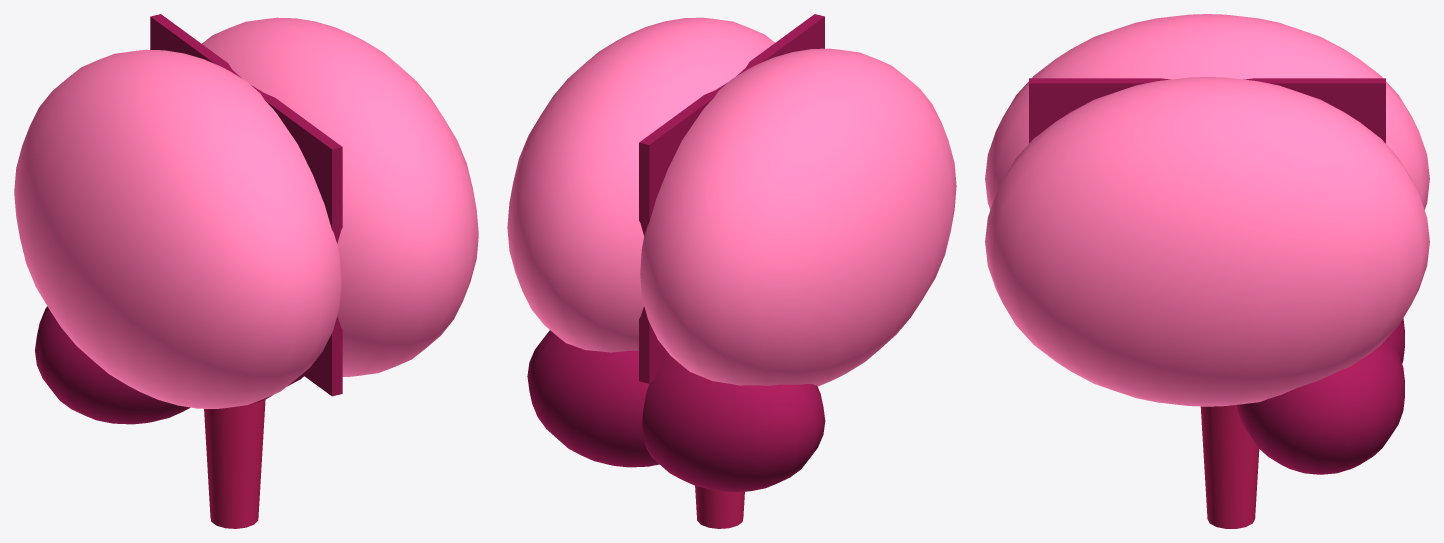
Rendered from brain.glb.
3 renders of one model, left to right at view 1: azimuth 30°, elevation 25°; view 2: azimuth 150°, elevation 25°; view 3: azimuth 270°, elevation 25°, orthographic. The views are drawn at different scales.
Visible parts, largest first — view 1: HumanBrain; view 2: HumanBrain; view 3: HumanBrain.
Part boxes in pixels (x1,y1,x2,y2): HumanBrain: [14, 14, 478, 528]; HumanBrain: [507, 14, 956, 528]; HumanBrain: [985, 14, 1429, 528].
Size of the model in its own units: 1.44 by 1.72 by 1.49.
